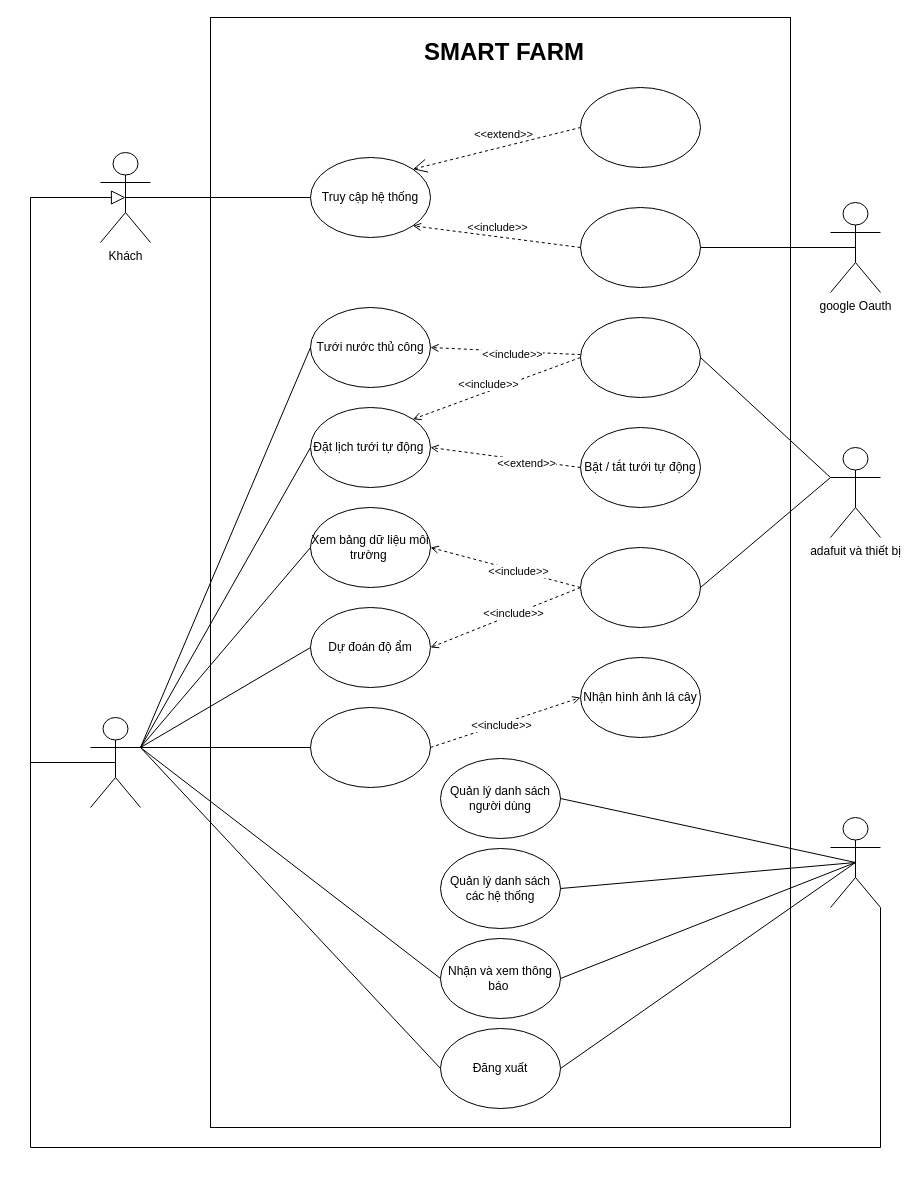
Some shapes in this 918 by 1179 pixel diagram are drawn without their labels. Each missing label, with the box of its shape:
Admin: (830, 816, 880, 908)
Gửi dữ liệu: (580, 316, 700, 398)
Người dùng: (90, 716, 140, 808)
Nhận dữ liệu: (580, 546, 700, 628)
Xác định sâu bệnh bằng hình: (310, 706, 430, 788)
Đăng kí: (580, 86, 700, 168)
Đăng nhập: (580, 206, 700, 288)
